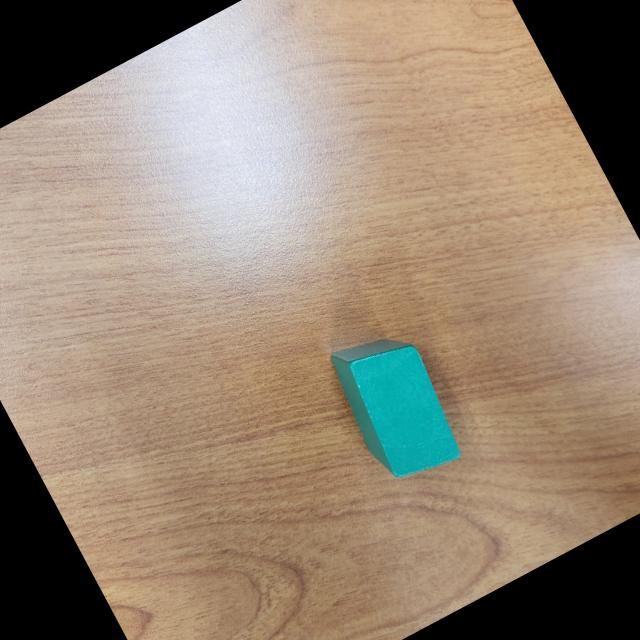green: (319, 318, 472, 494)
